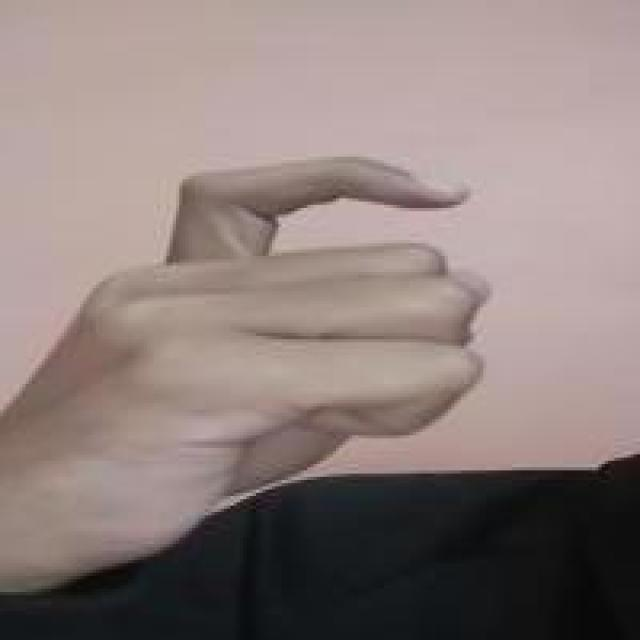X: (28, 128, 494, 573)
